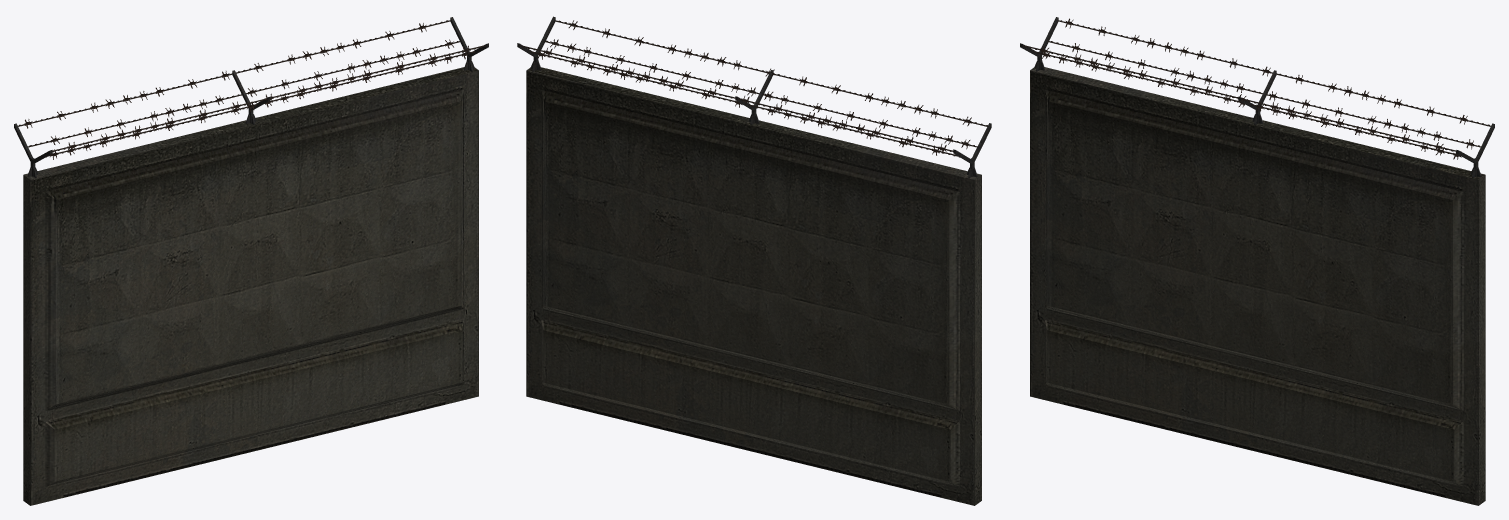
Rendered from concrete_fence_hr_2.fbx.
3 renders of one model, left to right at view 1: azimuth 30°, elevation 25°; view 2: azimuth 150°, elevation 25°; view 3: azimuth 330°, elevation 25°, orthographic.
Parts seen in each view (by area): view 1: concrete_fence_hr_2; view 2: concrete_fence_hr_2; view 3: concrete_fence_hr_2.
Boxes of the visible parts, x1,y1,x2,y2 form: concrete_fence_hr_2: [14, 17, 488, 505]; concrete_fence_hr_2: [517, 16, 991, 505]; concrete_fence_hr_2: [1020, 17, 1494, 505].
Size of the model in its own units: 3.6 by 0.5551 by 2.82.
